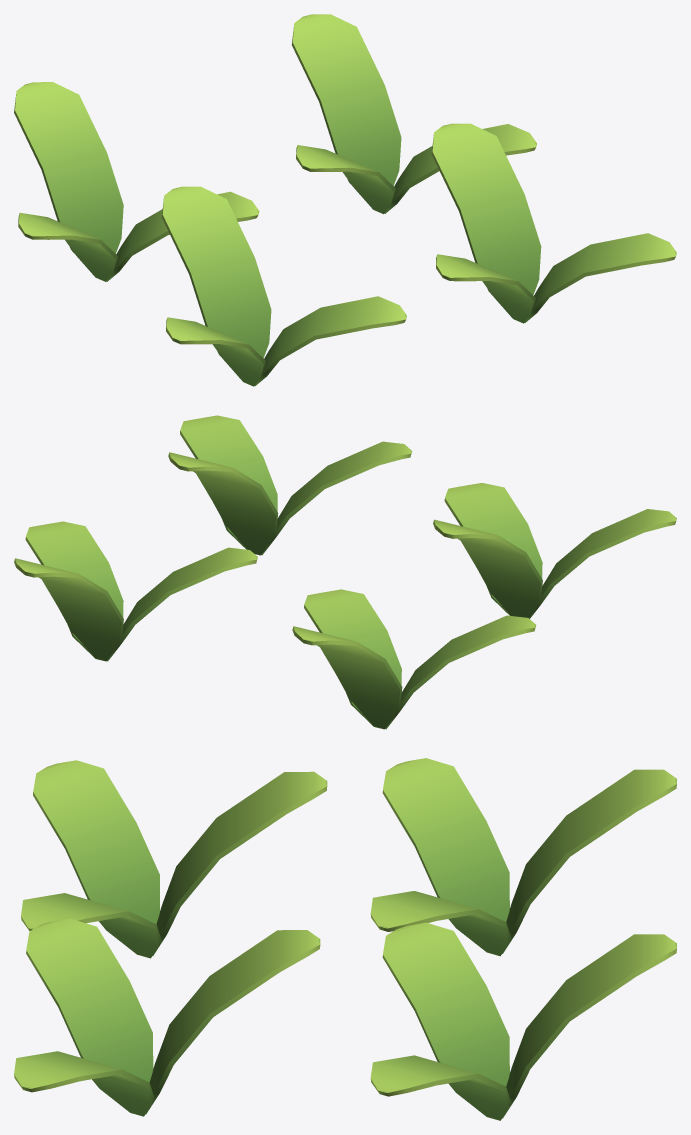
The model's file is Grass1.fbx.
3 views of the same model, one above another, from view 1: azimuth 30°, elevation 25°; view 2: azimuth 150°, elevation 25°; view 3: azimuth 270°, elevation 25° (orthographic). The views are drawn at different scales.
Parts seen in each view (by area): view 1: Sketchfab_2022_11_16_13_08_28; view 2: Sketchfab_2022_11_16_13_08_28; view 3: Sketchfab_2022_11_16_13_08_28.
Boxes of the visible parts, x1=… form: Sketchfab_2022_11_16_13_08_28: x1=14, y1=14, x2=676, y2=386; Sketchfab_2022_11_16_13_08_28: x1=14, y1=415, x2=676, y2=729; Sketchfab_2022_11_16_13_08_28: x1=14, y1=758, x2=676, y2=1120.
Size of the model in its own units: 164 by 44.25 by 154.
